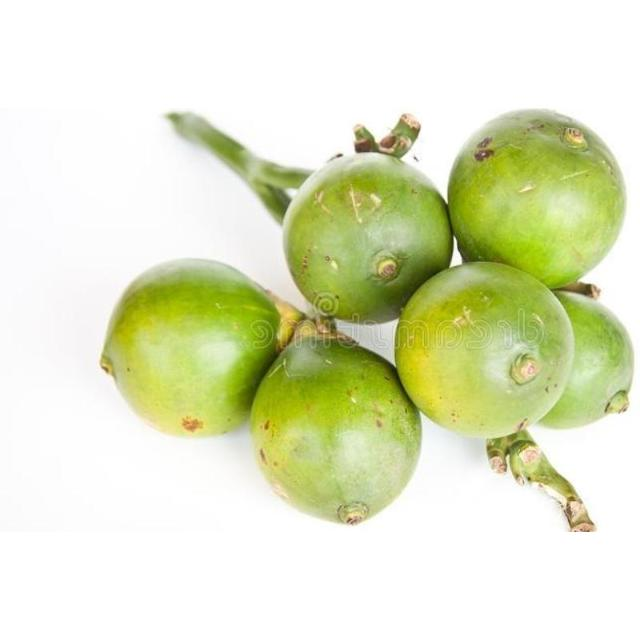good: (101, 259, 291, 437), (250, 331, 422, 527), (448, 108, 626, 290), (396, 262, 576, 438), (284, 146, 452, 324)
